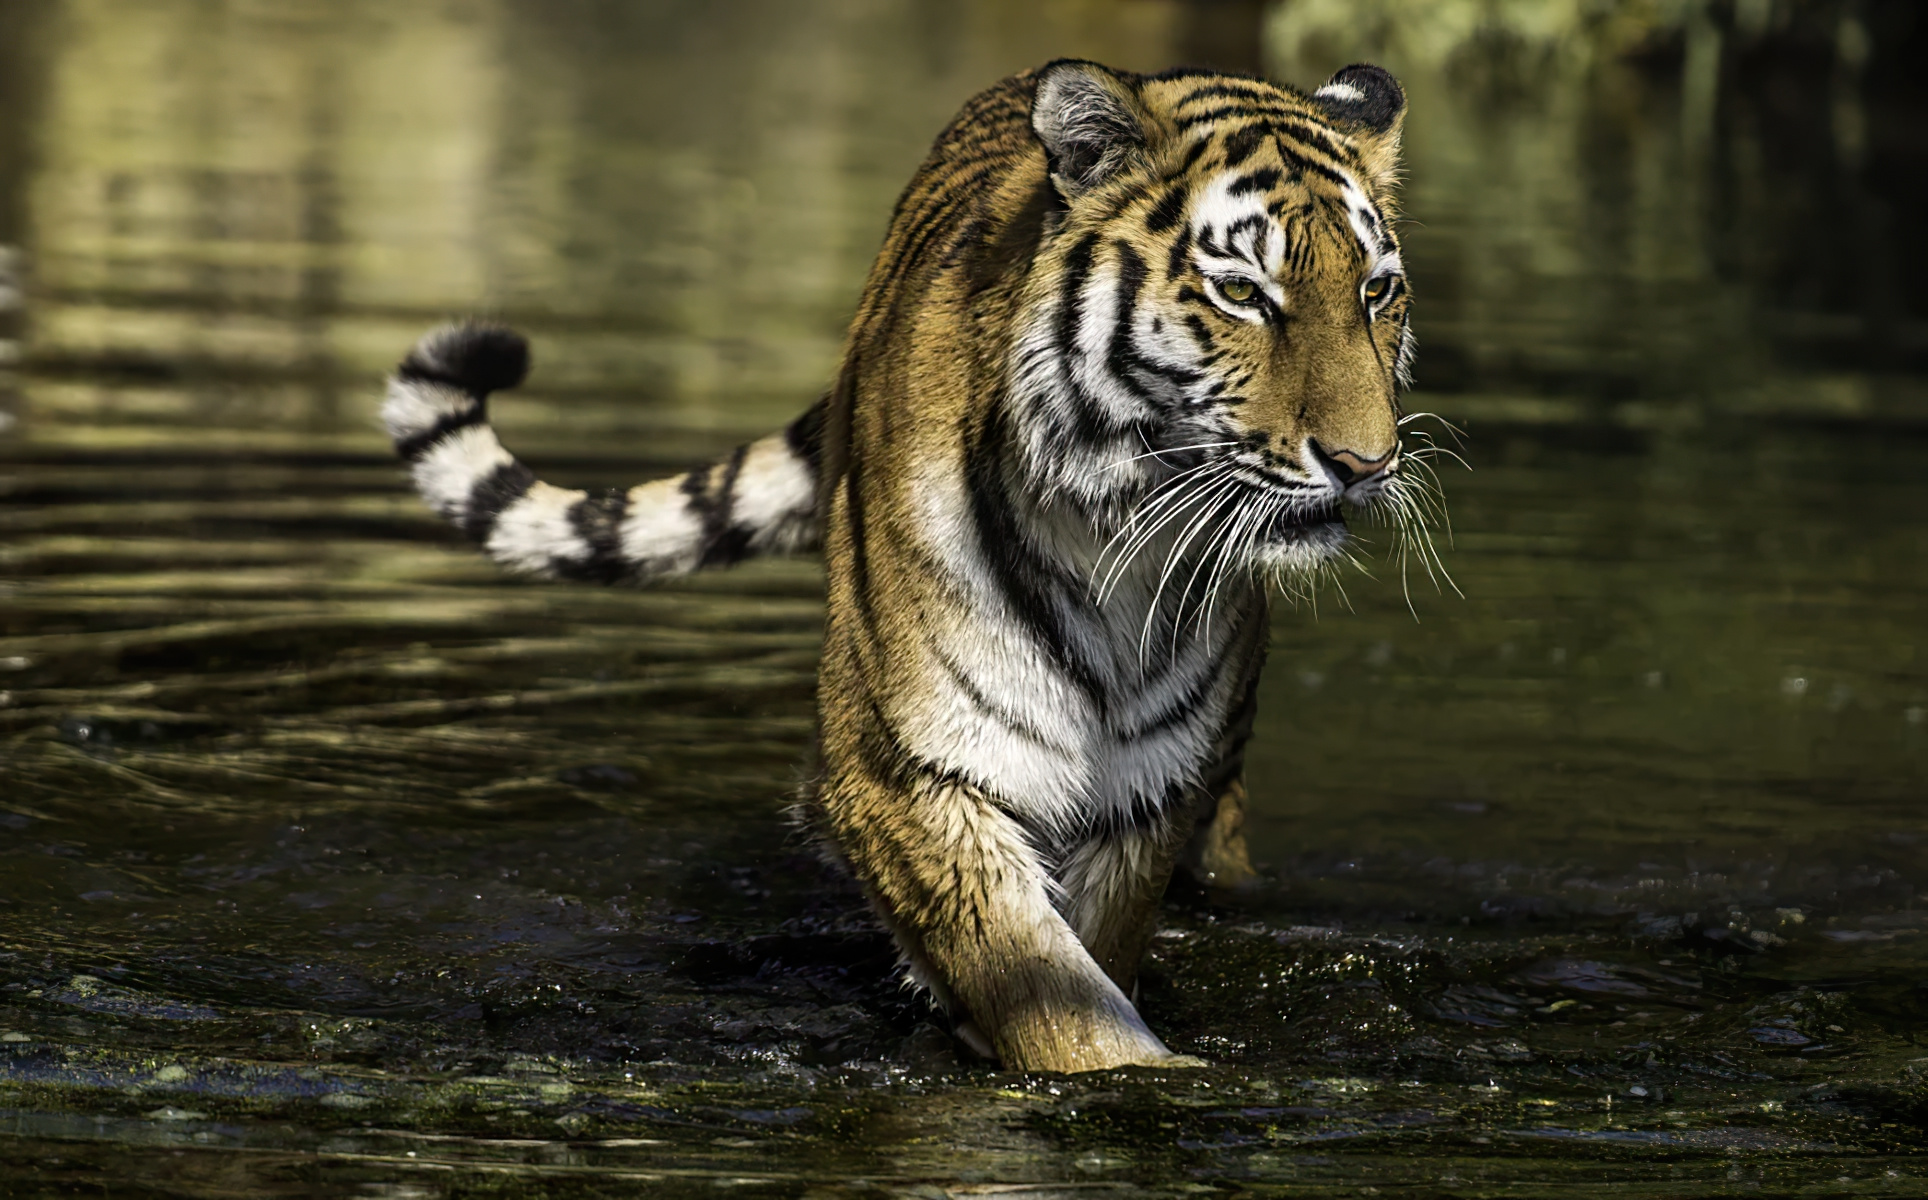tiger: (379, 43, 1576, 1138)
